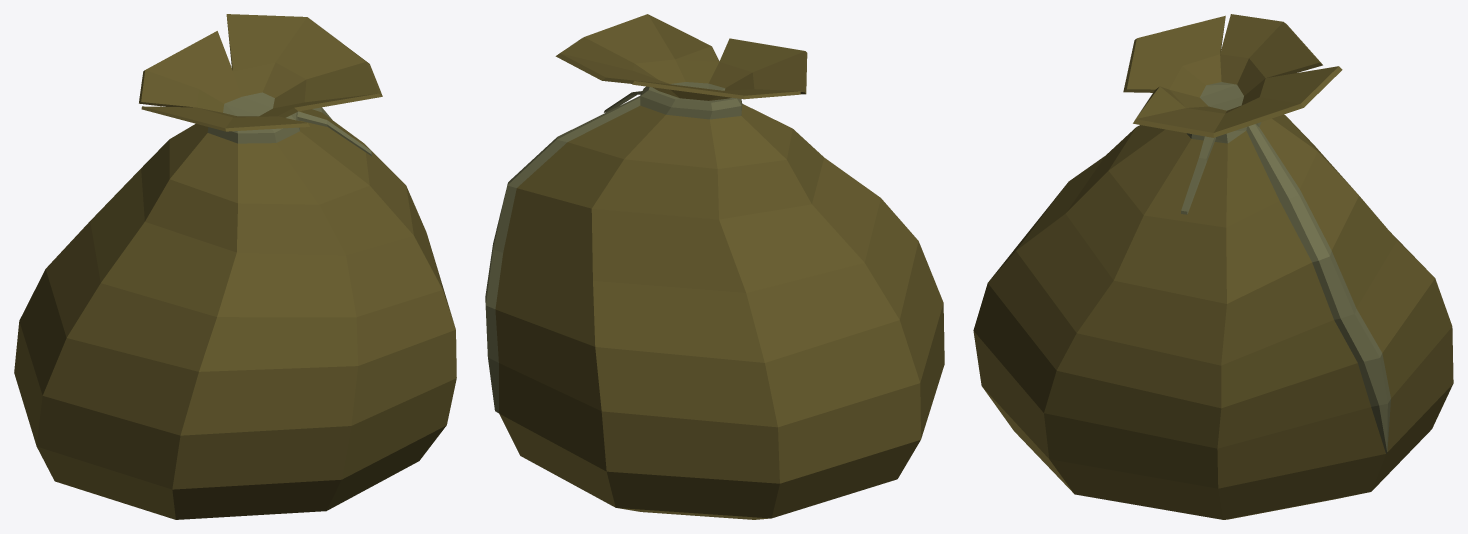
Rendered from Bag Asia.fbx.
3 views of the same model, side by side, from view 1: azimuth 30°, elevation 25°; view 2: azimuth 150°, elevation 25°; view 3: azimuth 270°, elevation 25° (orthographic). The views are drawn at different scales.
Visible parts, largest first — view 1: Bag; view 2: Bag; view 3: Bag.
Boxes of the visible parts, left/top/right/bottom form: Bag: left=14, top=14, right=456, bottom=519; Bag: left=485, top=14, right=944, bottom=519; Bag: left=973, top=14, right=1453, bottom=519.
Bounding box in the file's own units: 0.5481 × 0.5191 × 0.5419.
